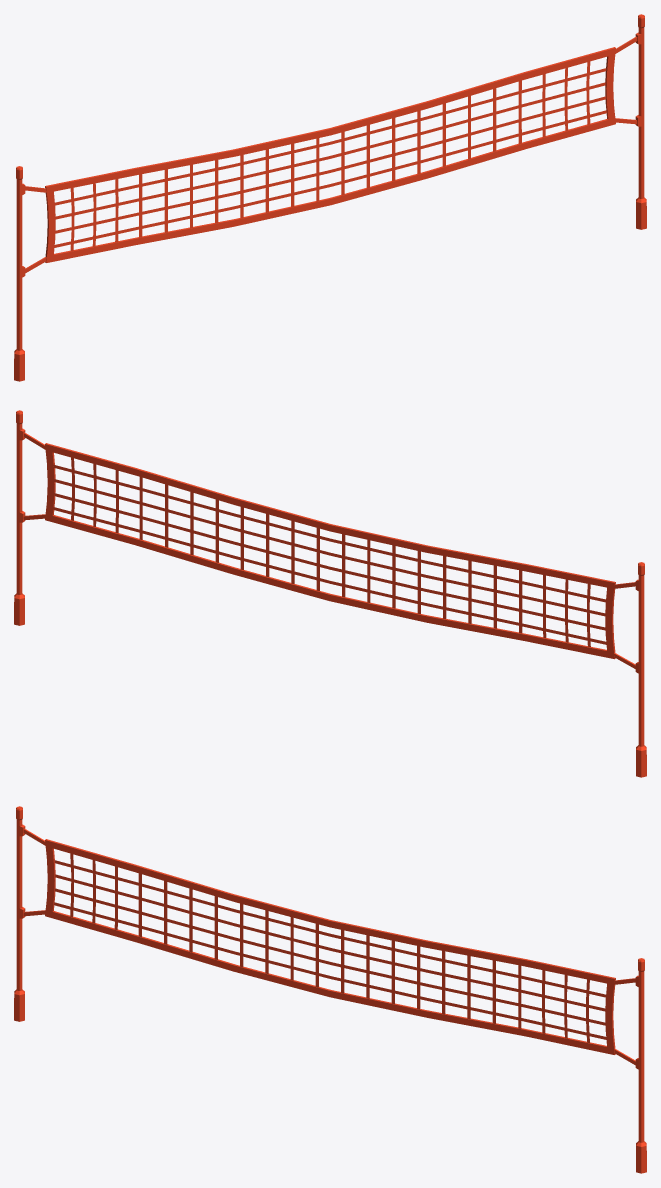
File: SM_Net_Beach_Volleyball_City.fbx
3 views of the same model, one above another, from view 1: azimuth 30°, elevation 25°; view 2: azimuth 150°, elevation 25°; view 3: azimuth 330°, elevation 25° (orthographic).
Parts seen in each view (by area): view 1: SM_Net_Beach_Volleyball_City; view 2: SM_Net_Beach_Volleyball_City; view 3: SM_Net_Beach_Volleyball_City.
Boxes of the visible parts, x1,y1,x2,y2 form: SM_Net_Beach_Volleyball_City: (14,14,646,381); SM_Net_Beach_Volleyball_City: (14,410,646,777); SM_Net_Beach_Volleyball_City: (14,806,646,1173).
Size of the model in its own units: 10.21 by 3.26 by 0.1544.
